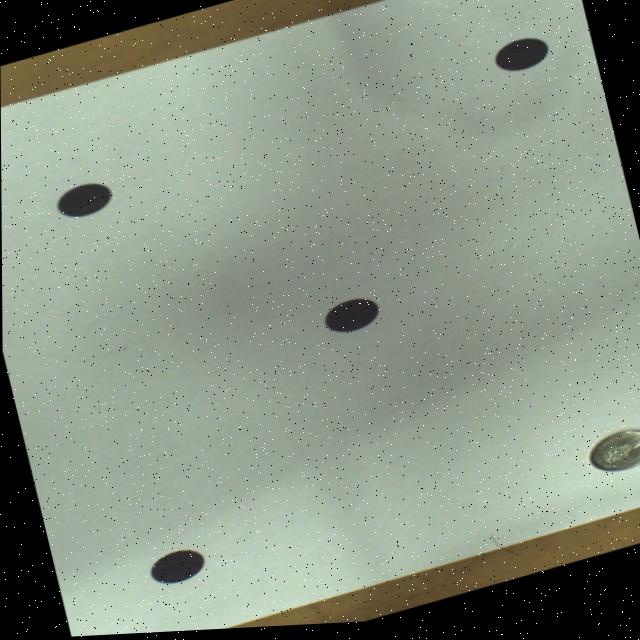space: (323, 302, 378, 336), (57, 183, 110, 218), (149, 552, 203, 585), (495, 44, 545, 76)
tail1bath: (589, 437, 640, 478)
